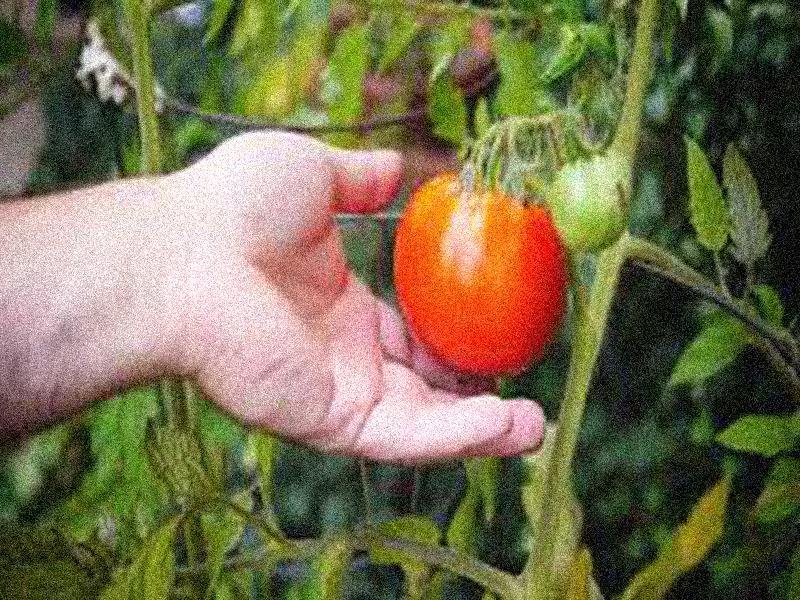Tomato: (392, 168, 572, 375)
